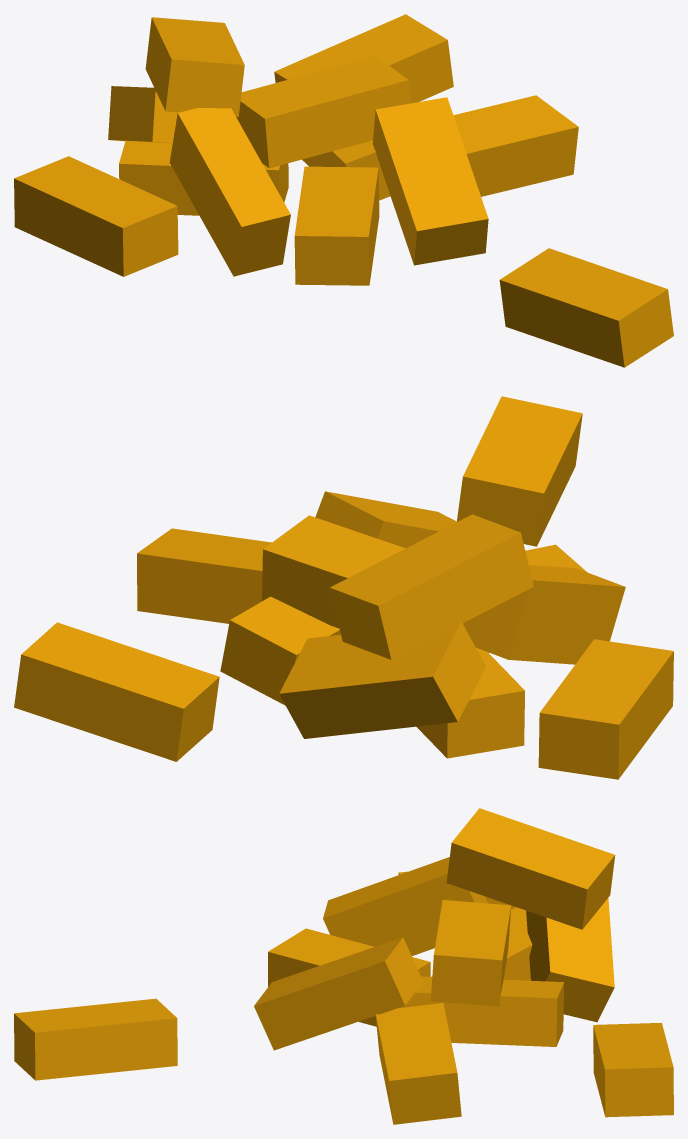
The model's file is Bricks.fbx.
3 views of the same model, one above another, from view 1: azimuth 30°, elevation 25°; view 2: azimuth 150°, elevation 25°; view 3: azimuth 270°, elevation 25° (orthographic). The views are drawn at different scales.
Parts seen in each view (by area): view 1: Bricks1_Brick; view 2: Bricks1_Brick; view 3: Bricks1_Brick.
Boxes of the visible parts, x1,y1,x2,y2 form: Bricks1_Brick: [14, 14, 673, 367]; Bricks1_Brick: [14, 396, 673, 779]; Bricks1_Brick: [14, 808, 673, 1124].
Bounding box in the file's own units: 5.92 × 2.14 × 7.59.
